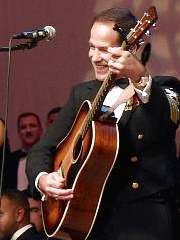guitar: (42, 7, 158, 239)
